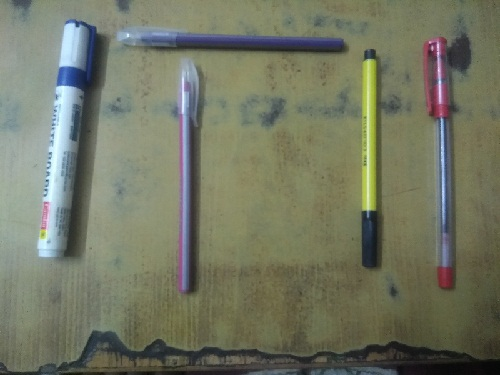pen: (33, 13, 104, 262), (414, 31, 461, 292), (112, 23, 353, 53), (358, 45, 387, 270), (173, 55, 197, 299)
